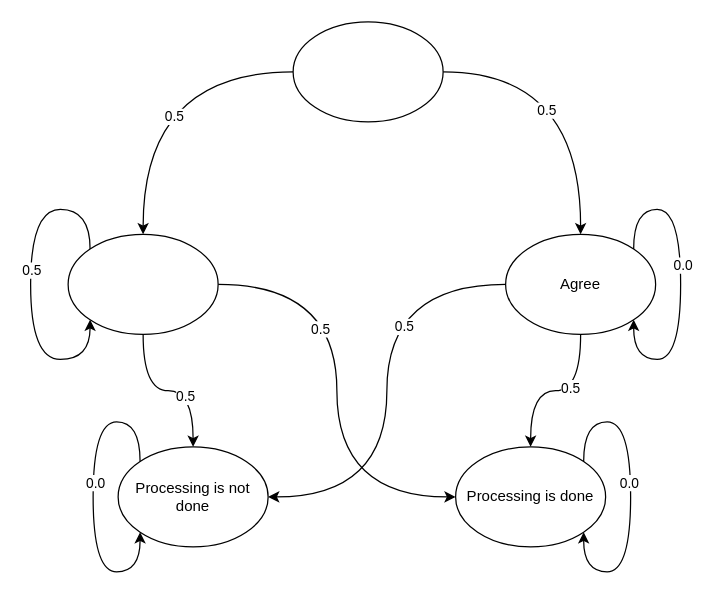
This 714x594 diagram has some shape labels left out. The box of each missing label's shape, as (x1, y1, x2, y2) in pixels:
Disagree: (67, 233, 218, 334)
Init: (292, 21, 443, 122)
